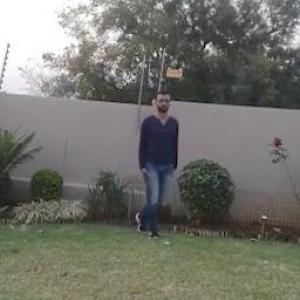follow: (130, 91, 181, 248)
